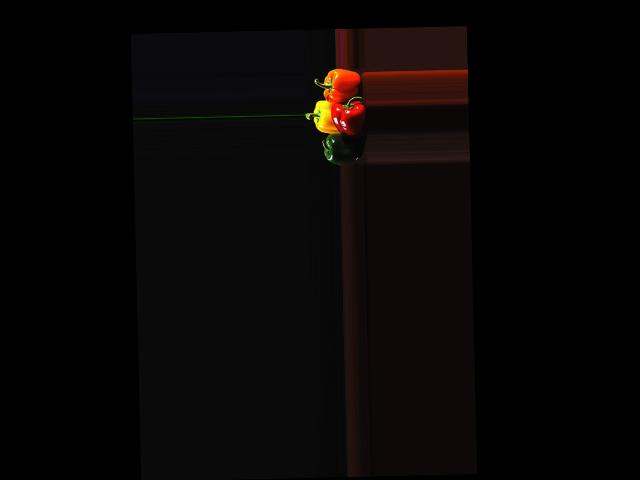bell_pepper: (318, 68, 367, 104)
